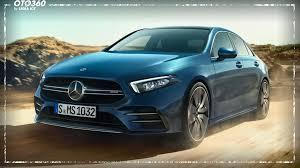mercedes: (68, 81, 84, 101)
